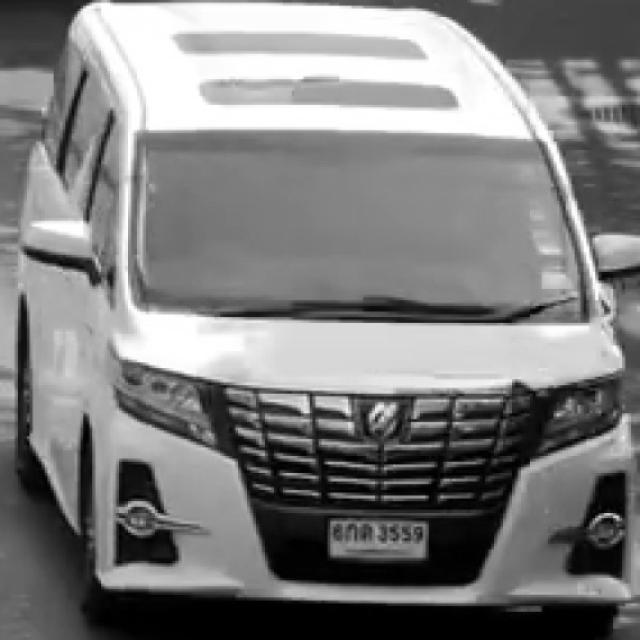plate: (330, 518, 428, 560)
